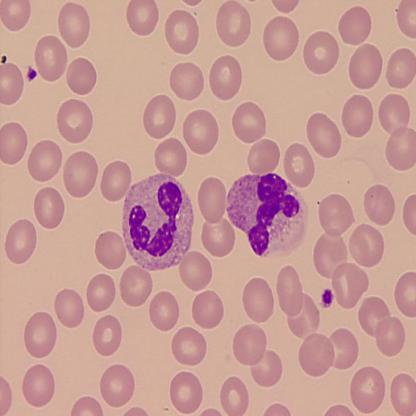Segmented neutrophil: (120, 172, 195, 273), (224, 170, 306, 260)
